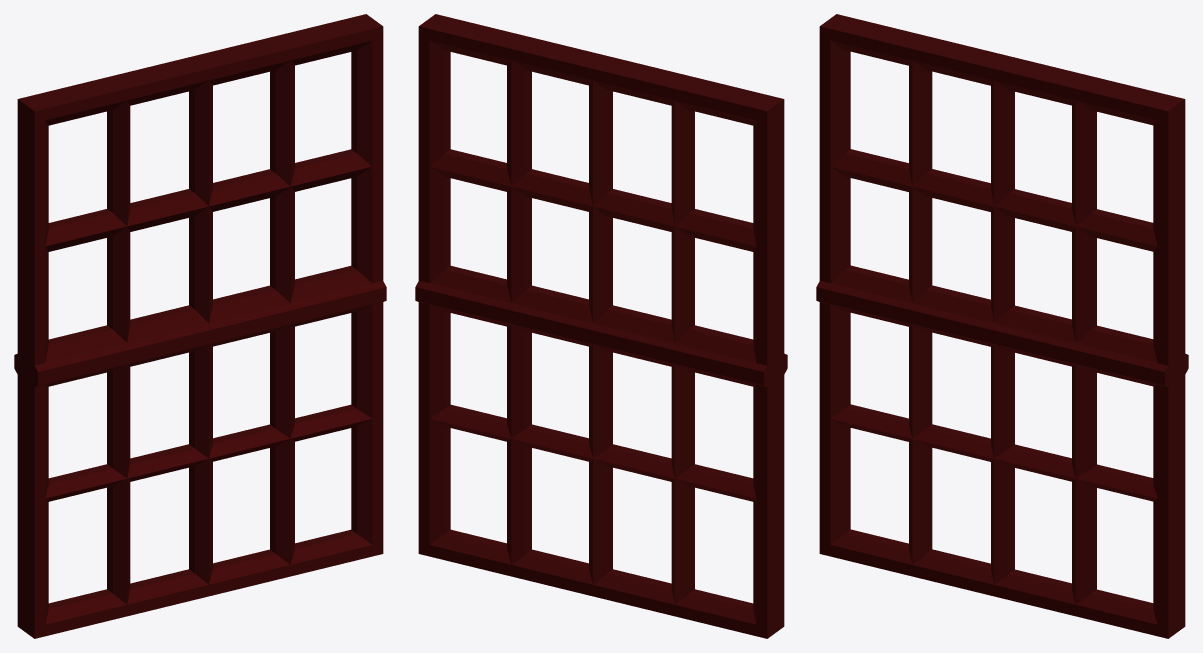
The model's file is Window.fbx.
3 views of the same model, side by side, from view 1: azimuth 30°, elevation 25°; view 2: azimuth 150°, elevation 25°; view 3: azimuth 330°, elevation 25° (orthographic).
Visible parts, largest first — view 1: Window; view 2: Window; view 3: Window.
Part boxes in pixels (box(x1,y1,x2,y2)): Window: box(14, 14, 386, 638); Window: box(415, 14, 787, 638); Window: box(816, 14, 1188, 638).
Size of the model in its own units: 96.59 by 140 by 11.28.
